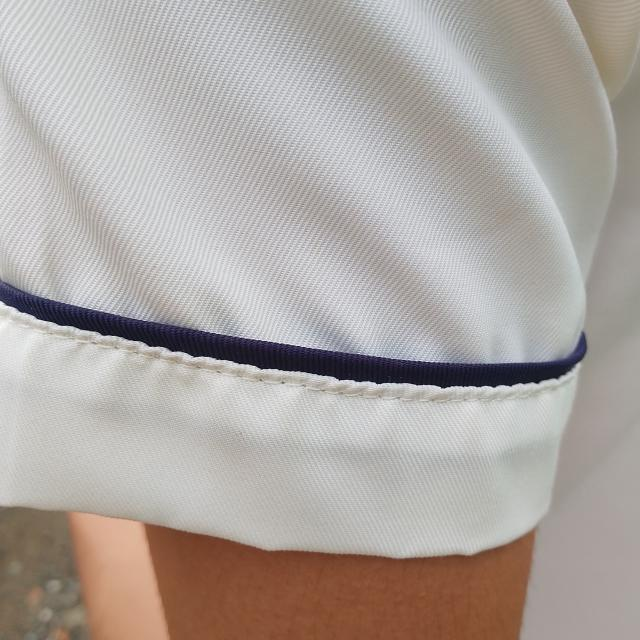education_male_uniform: (0, 0, 615, 587), (8, 0, 46, 60)
